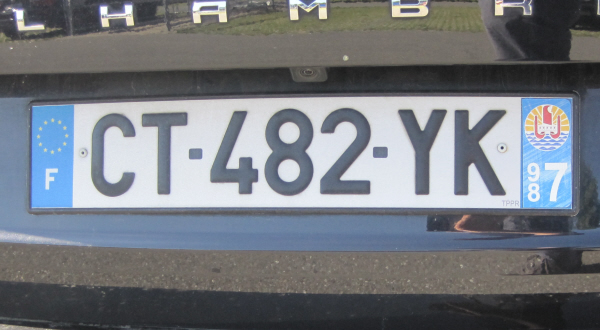license_plate: (29, 94, 575, 212)
